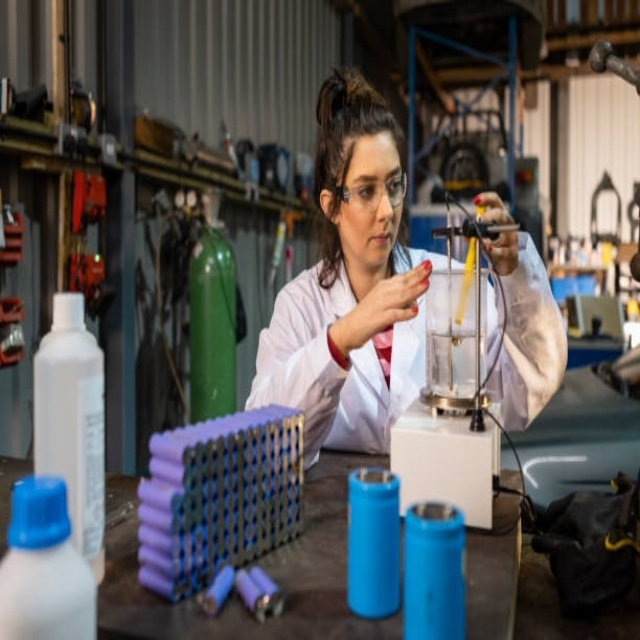Gafas: (337, 171, 408, 213)
Sin_guantes: (351, 254, 434, 350), (471, 192, 520, 278)
Sin_mascara: (366, 224, 392, 257)
